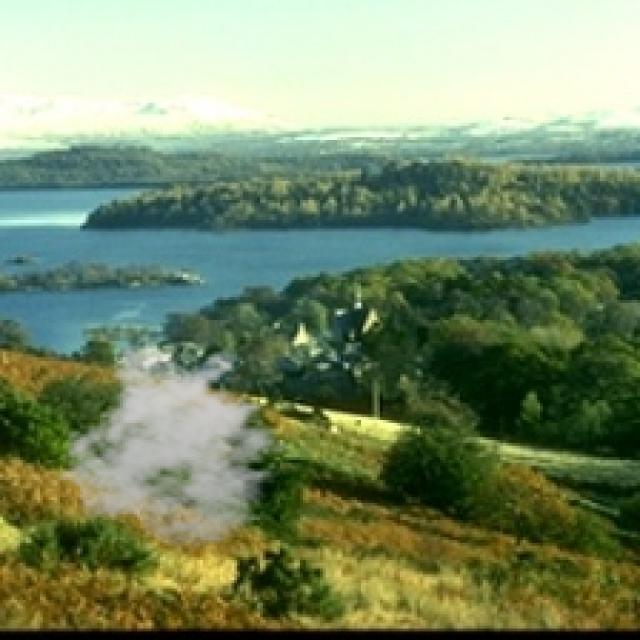smoke: (54, 340, 306, 549)
